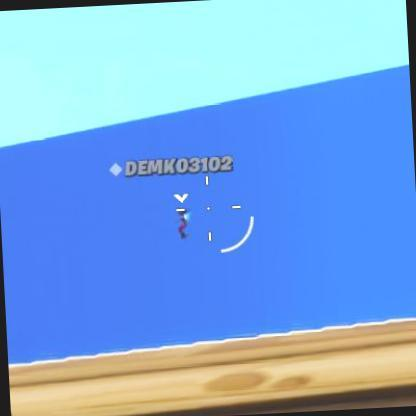person: (176, 201, 190, 235)
